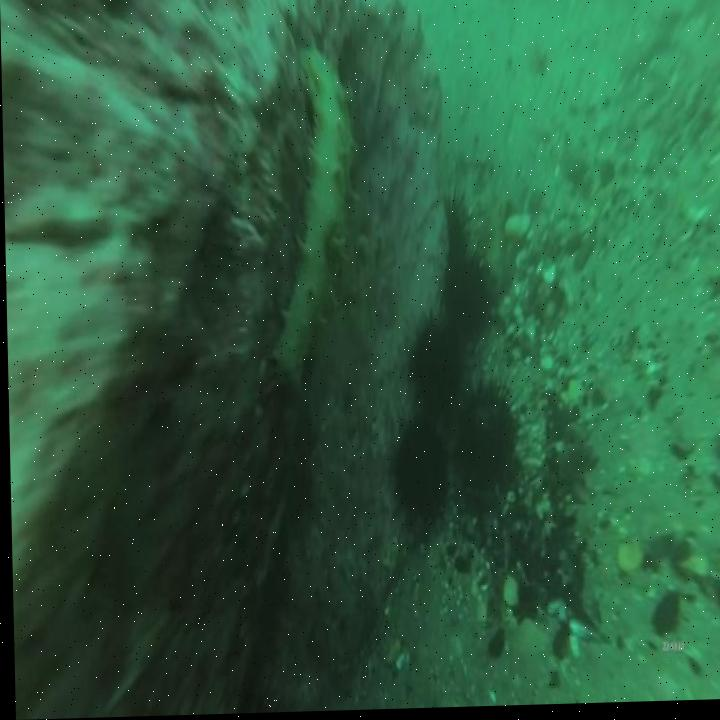echinus: (450, 374, 517, 500), (383, 417, 450, 540), (405, 302, 462, 421), (440, 250, 495, 351), (435, 190, 475, 283)
holothurian: (252, 38, 361, 396)
